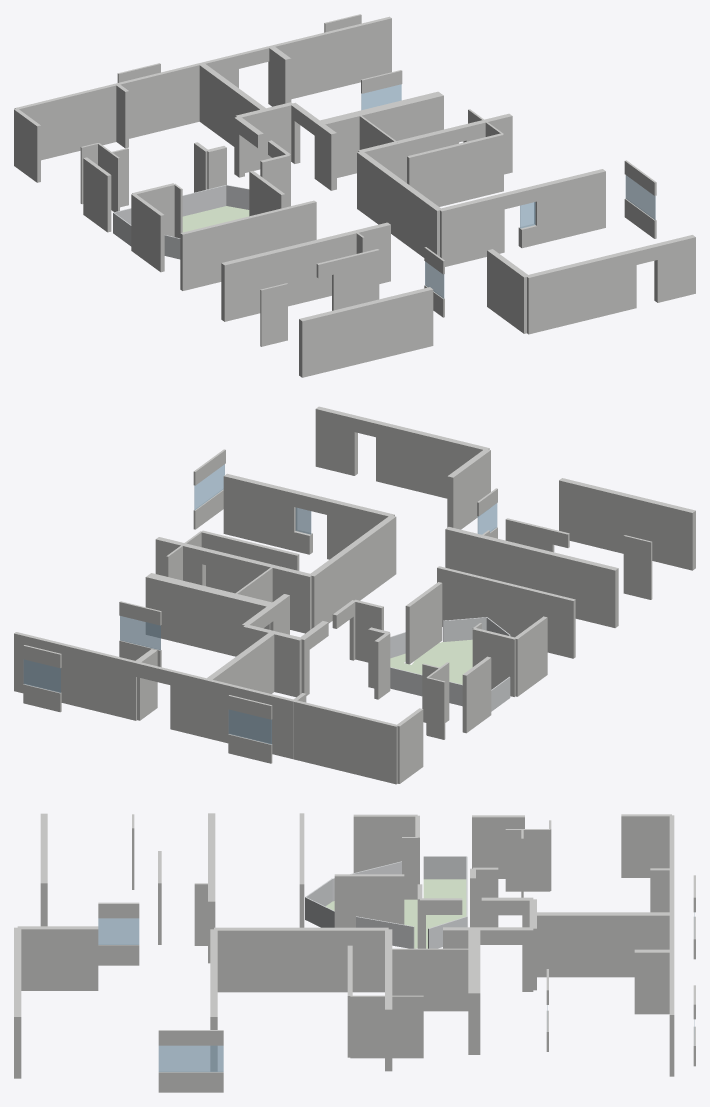
The model's file is Screenshot 2026-10-06 at 14-41-39 Beautiful 2D Floor Plan Ideas To see more Read it👇_3d.glb.
The picture shows the model from 3 angles, top to bottom: view 1: azimuth 30°, elevation 25°; view 2: azimuth 150°, elevation 25°; view 3: azimuth 270°, elevation 25°; orthographic projection. The views are drawn at different scales.
Visible parts, largest first — view 1: wall_W26_36, wall_W27_37, wall_W22_31, wall_W20_25, wall_W6_8, wall_W19_24, wall_W45_62, wall_W3_4, wall_W4_5, wall_W21_30, wall_W21_26, wall_W41_56 (+33 smaller); view 2: wall_W26_36, wall_W22_31, wall_W6_8, wall_W20_25, wall_W3_4, wall_W13_16, wall_W45_62, wall_W27_37, wall_W21_30, wall_W4_5, wall_W27_39, wall_W42_57 (+37 smaller); view 3: wall_W45_62, wall_W41_56, wall_W42_57, wall_W46_63, wall_W48_65, wall_W36_48, wall_W28_40, wall_W29_41, wall_W47_64, wall_W30_42, floor_R1_balcony_81, window_N4_71 (+32 smaller).
Boxes of the visible parts, x1,y1,x2,y2 form: wall_W26_36: [299, 287, 433, 377]; wall_W27_37: [525, 249, 636, 334]; wall_W22_31: [221, 230, 356, 321]; wall_W20_25: [180, 200, 316, 290]; wall_W6_8: [270, 16, 391, 99]; wall_W19_24: [407, 133, 503, 206]; wall_W45_62: [357, 151, 442, 257]; wall_W3_4: [14, 83, 117, 160]; wall_W4_5: [116, 63, 201, 138]; wall_W21_30: [534, 169, 605, 244]; wall_W21_26: [440, 193, 504, 266]; wall_W41_56: [199, 64, 267, 146]; wall_W26_36: [559, 478, 695, 570]; wall_W22_31: [479, 535, 618, 627]; wall_W6_8: [14, 632, 137, 720]; wall_W20_25: [437, 566, 575, 658]; wall_W3_4: [293, 700, 398, 784]; wall_W13_16: [145, 573, 235, 655]; wall_W45_62: [309, 515, 396, 628]; wall_W27_37: [376, 421, 489, 498]; wall_W21_30: [223, 473, 296, 550]; wall_W4_5: [207, 679, 294, 758]; wall_W27_39: [315, 406, 357, 475]; wall_W42_57: [447, 449, 490, 529]; wall_W45_62: [214, 927, 388, 992]; wall_W41_56: [533, 912, 671, 977]; wall_W42_57: [17, 926, 98, 990]; wall_W46_63: [388, 948, 474, 1011]; wall_W48_65: [350, 995, 423, 1058]; wall_W36_48: [334, 874, 404, 927]; wall_W28_40: [621, 814, 671, 877]; wall_W29_41: [353, 814, 417, 872]; wall_W47_64: [634, 949, 671, 1014]; wall_W30_42: [472, 815, 524, 878]; floor_R1_balcony_81: [325, 879, 466, 948]; window_N4_71: [158, 1045, 223, 1072].
Size of the model in its own units: 20.84 by 2.75 by 27.56.
